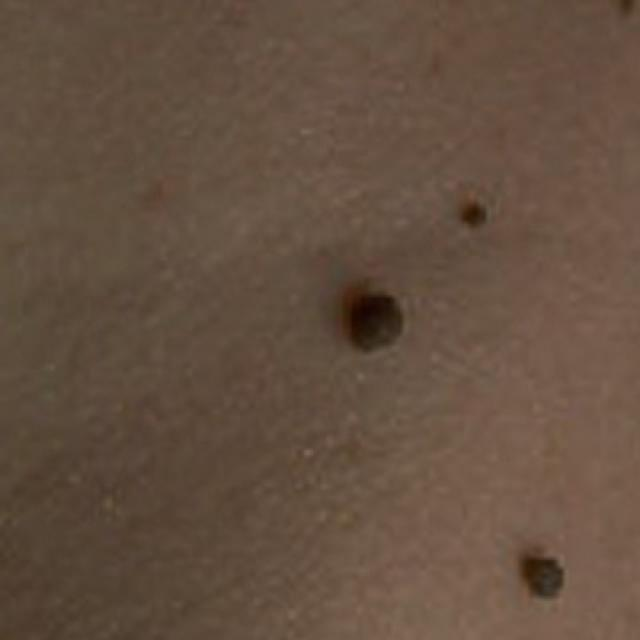wart: (311, 272, 434, 370), (498, 530, 590, 604), (445, 185, 503, 251)
